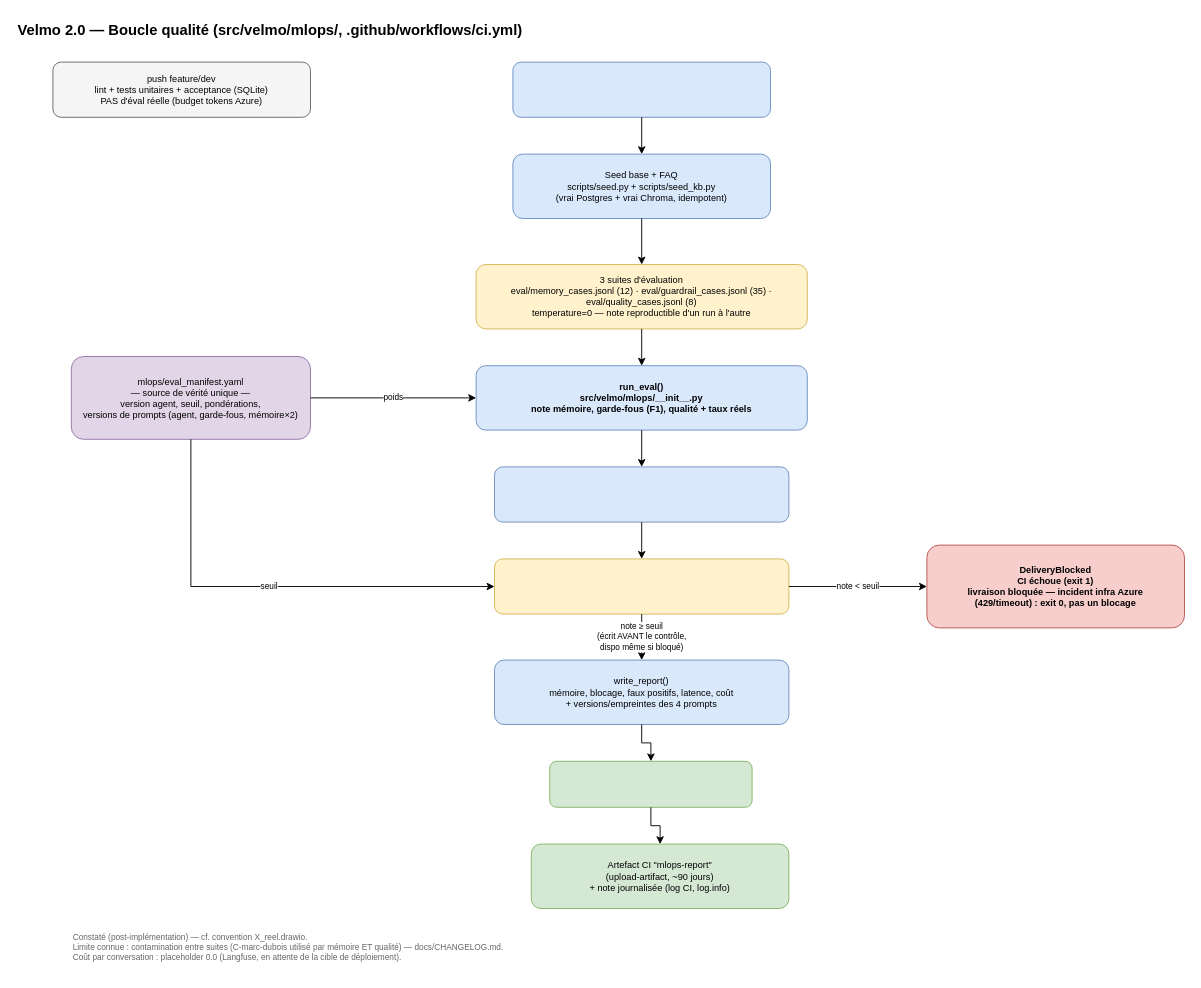
Image size: 1201x988. Some labels were removed from this diagram. The box of each missing label's shape, as (x1, y1, x2, y2) in pixels:
enforce_threshold() compare à la note globale au seuil du manifeste: (494, 558, 789, 614)
mlops/report.md: (549, 760, 752, 807)
Note globale pondérée 0,3×mémoire + 0,4×garde-fous + 0,3×qualité: (494, 466, 789, 522)
push main OU workflow_dispatch (gh workflow run quality --ref dev): (512, 61, 770, 117)
